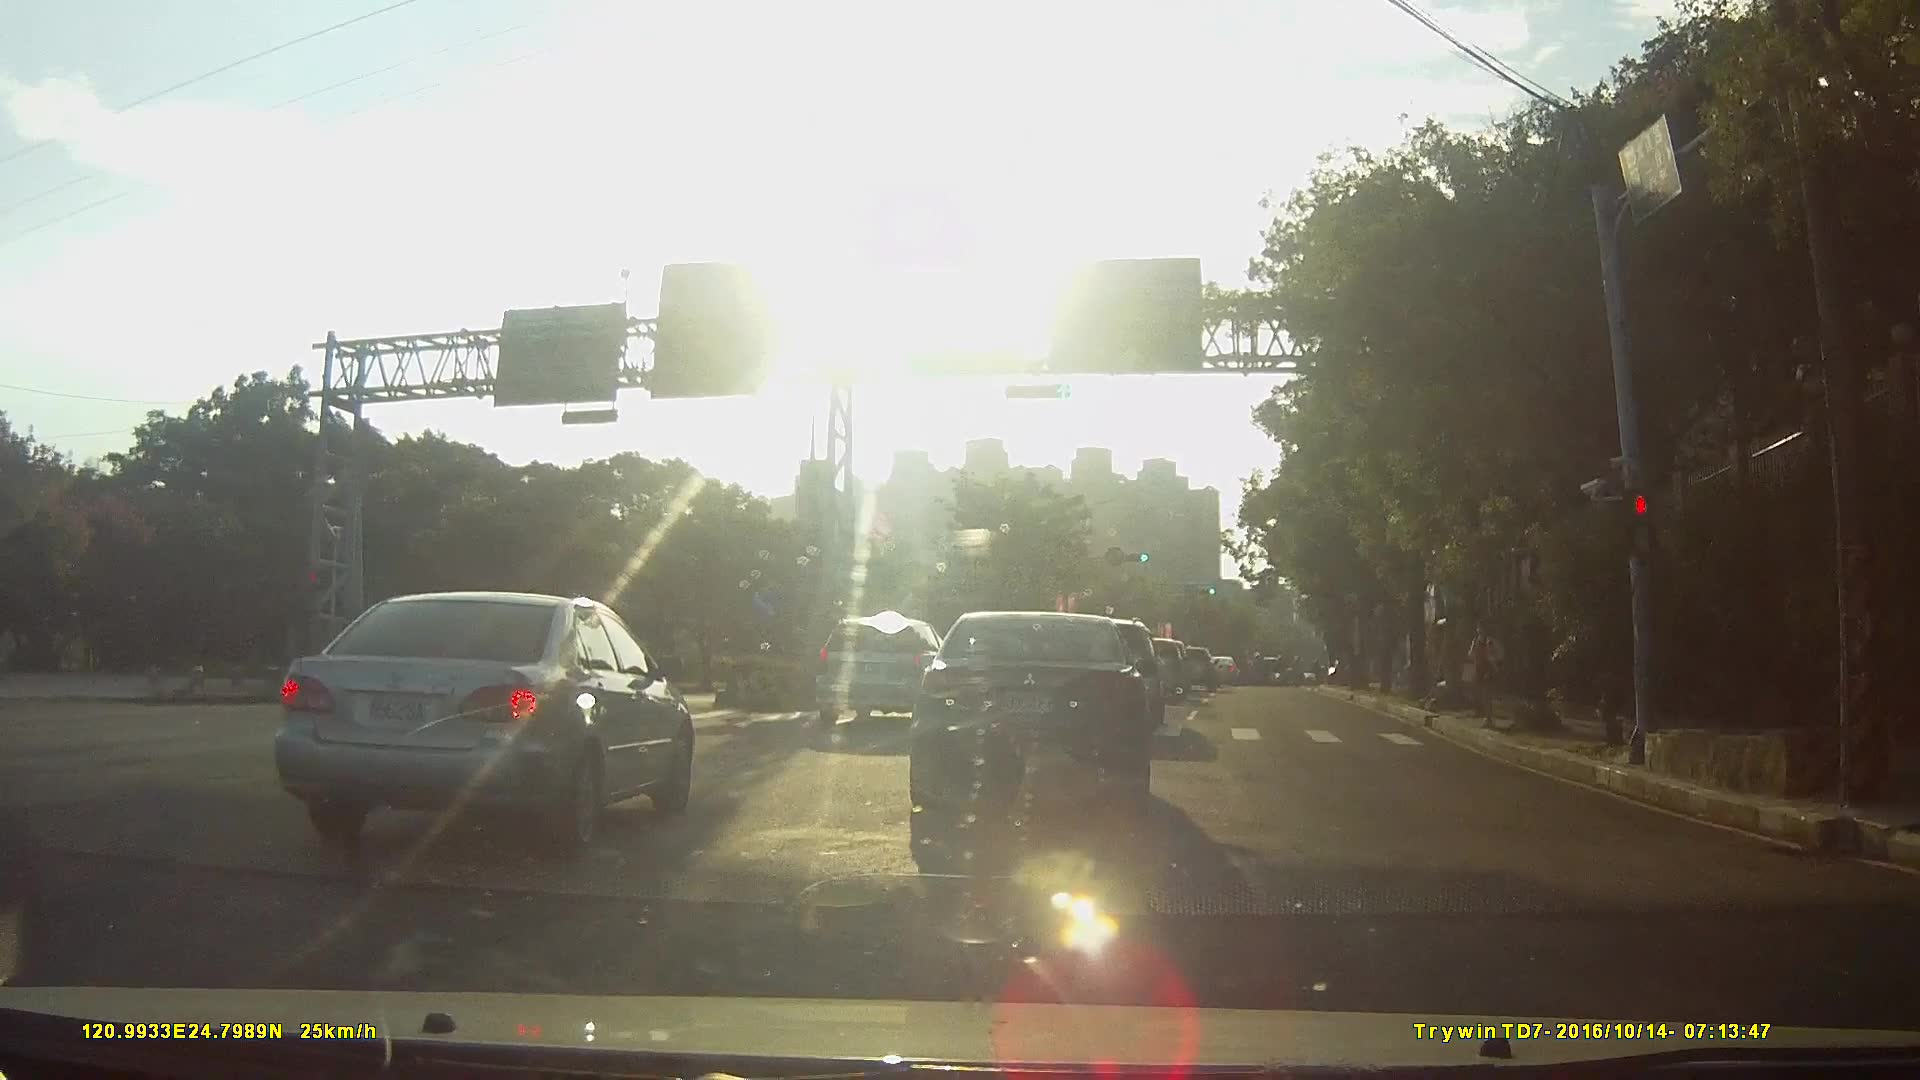pedestrian: (1460, 613, 1510, 725)
vehicle: (261, 582, 696, 851), (902, 609, 1153, 817), (811, 610, 954, 722), (1168, 642, 1215, 687), (1202, 655, 1238, 683)
